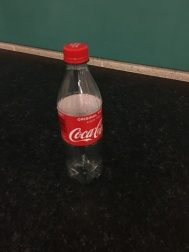bottle_red: (43, 35, 119, 188)
